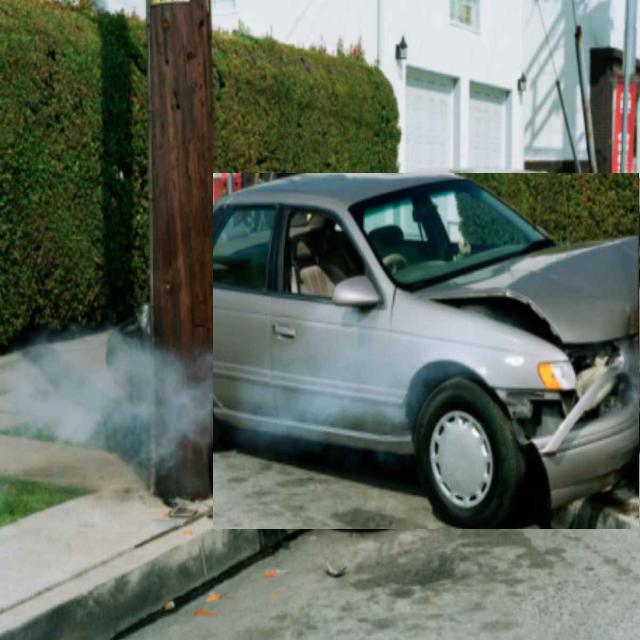accident: (214, 174, 639, 529)
